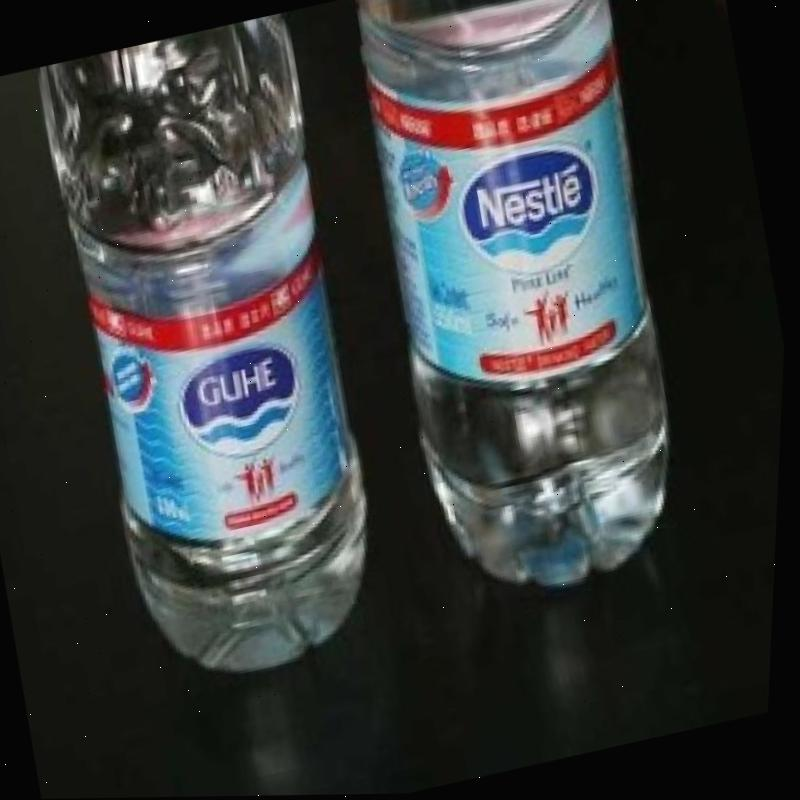botella: (4, 9, 425, 700), (317, 0, 730, 617)
